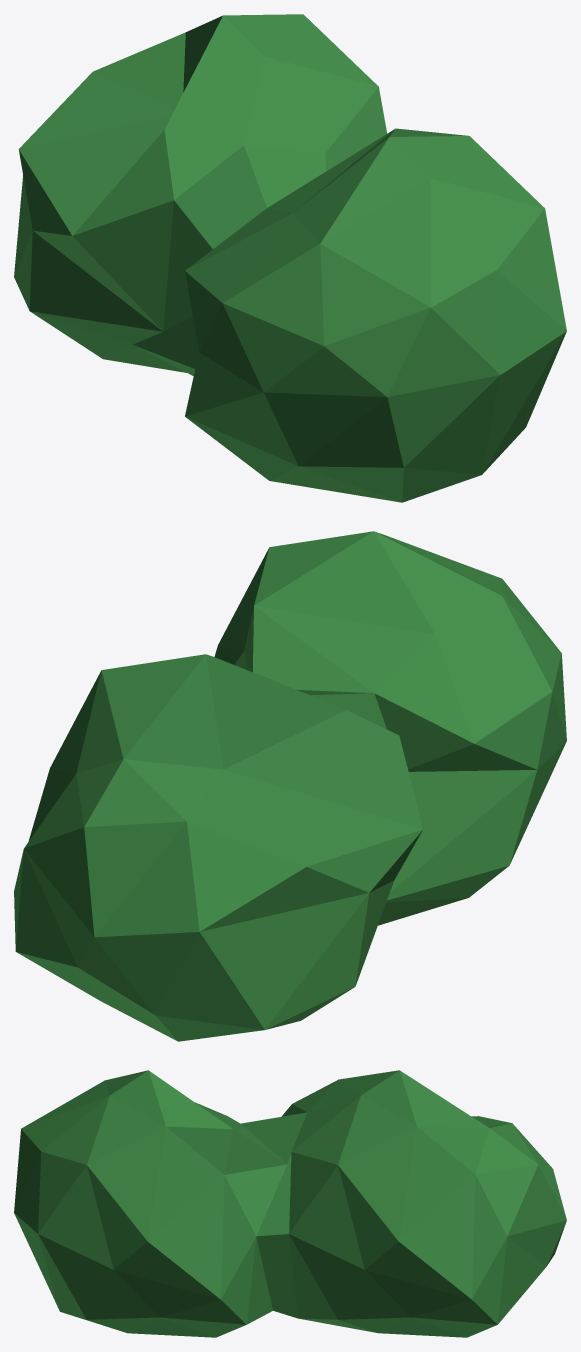
Rendered from Busch.fbx.
The picture shows the model from 3 angles, top to bottom: view 1: azimuth 30°, elevation 25°; view 2: azimuth 150°, elevation 25°; view 3: azimuth 270°, elevation 25°; orthographic projection. The views are drawn at different scales.
Parts seen in each view (by area): view 1: Baum2.001; view 2: Baum2.001; view 3: Baum2.001.
Part boxes in pixels (x1,y1,x2,y2): Baum2.001: [14, 14, 566, 502]; Baum2.001: [14, 531, 566, 1041]; Baum2.001: [14, 1070, 566, 1337].
Bounding box in the file's own units: 1.66 × 1.59 × 3.12.
